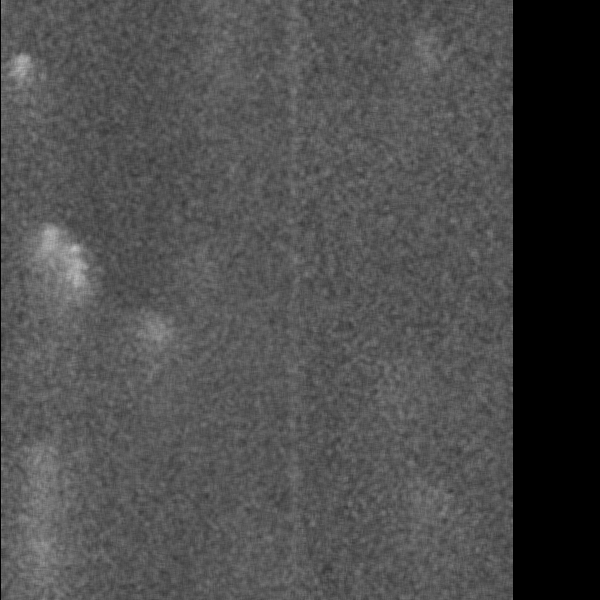spark: (3, 236, 93, 383), (19, 431, 60, 600), (131, 301, 179, 403), (7, 50, 32, 116), (401, 24, 427, 55)
